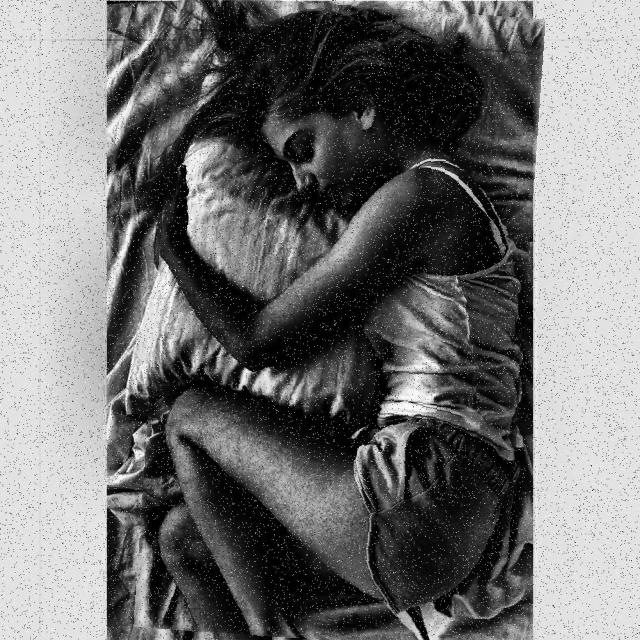Not_Supine: (159, 0, 519, 637)
